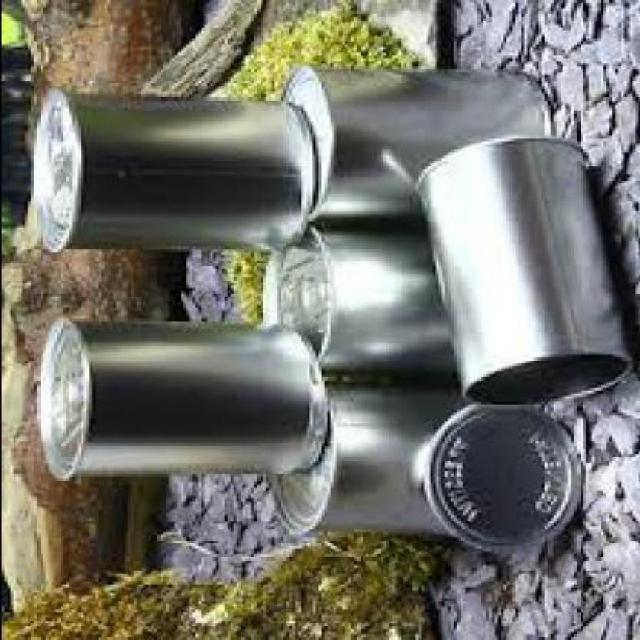METAL: (408, 130, 632, 402), (26, 86, 311, 249), (35, 319, 323, 476), (279, 64, 546, 224), (264, 380, 504, 529), (258, 219, 458, 379), (414, 396, 581, 549)
